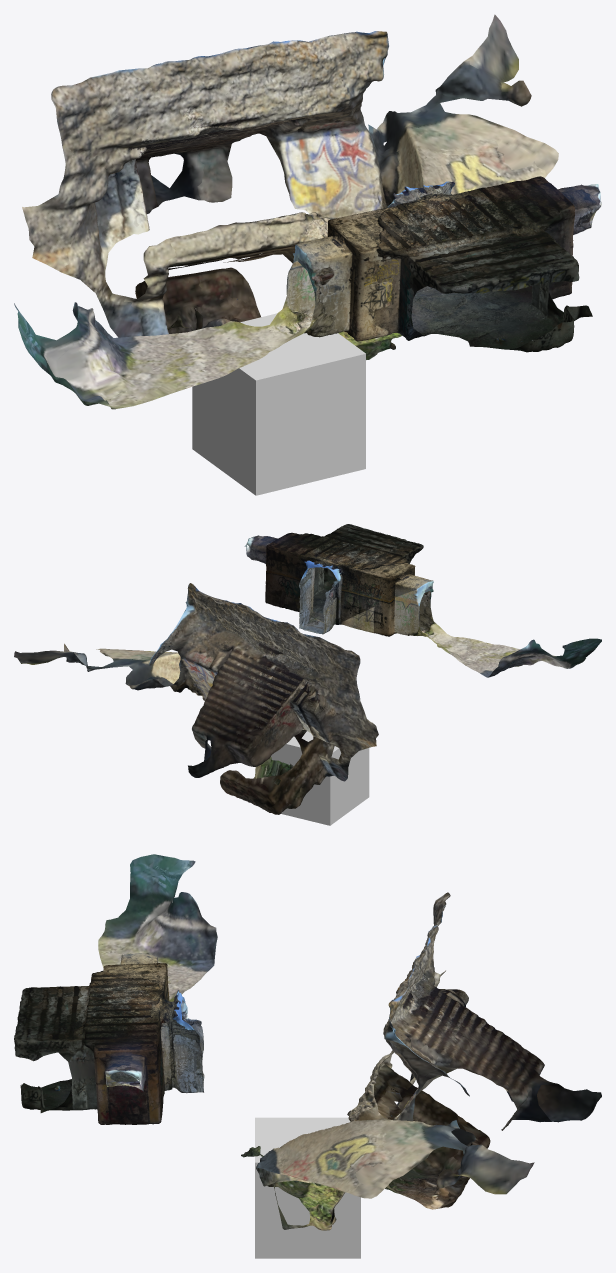
3 views of the same model, one above another, from view 1: azimuth 30°, elevation 25°; view 2: azimuth 150°, elevation 25°; view 3: azimuth 270°, elevation 25° (orthographic). The views are drawn at different scales.
Parts seen in each view (by area): view 1: 3DModel, Cube; view 2: 3DModel, Cube; view 3: 3DModel, Cube.
Boxes of the visible parts, x1,y1,x2,y2 form: 3DModel: [14, 14, 601, 409]; Cube: [192, 313, 365, 495]; 3DModel: [14, 524, 601, 814]; Cube: [262, 731, 369, 825]; 3DModel: [14, 854, 601, 1230]; Cube: [255, 1117, 360, 1258].
Bounding box in the file's own units: 13.02 × 6.19 × 11.08.
2 materials, 1 textured.
